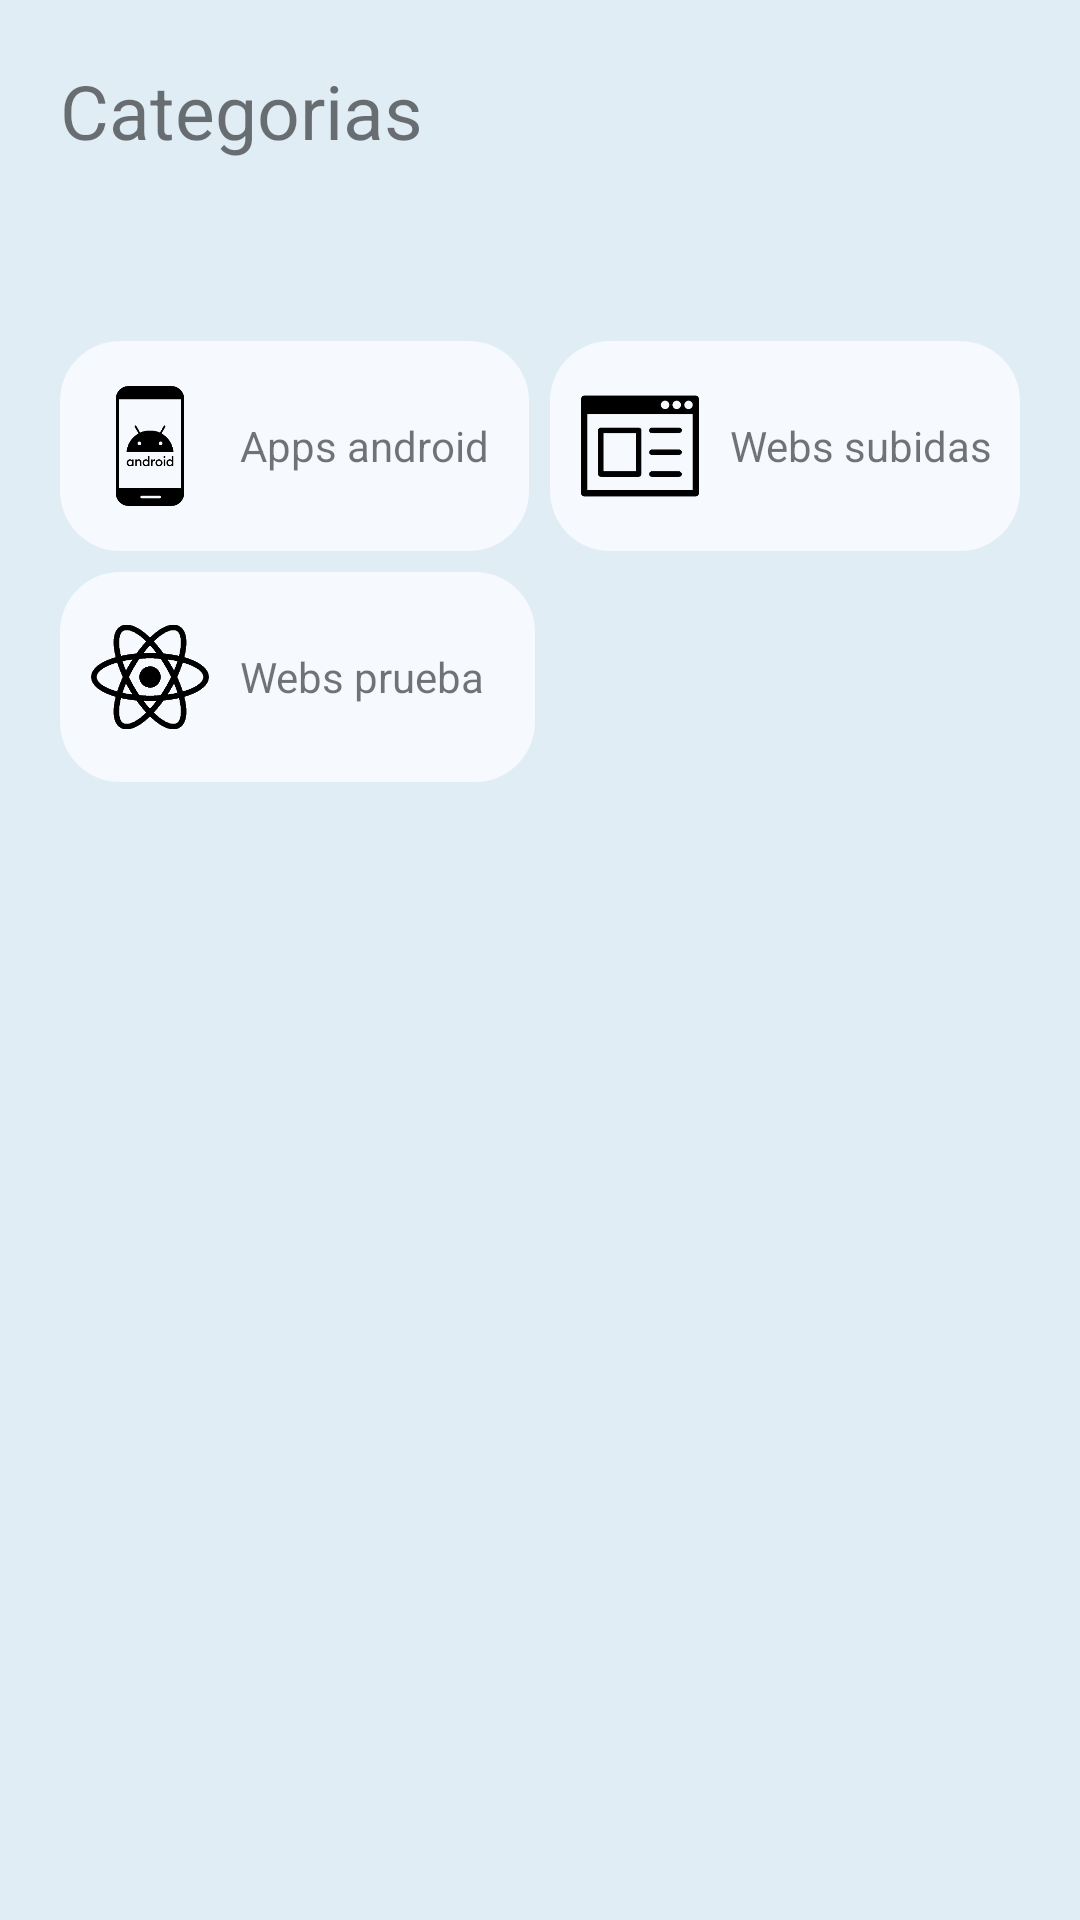

Icon click points for this 1080x1920 phone screenshot, format (x,y):
webicon: (640,446)
